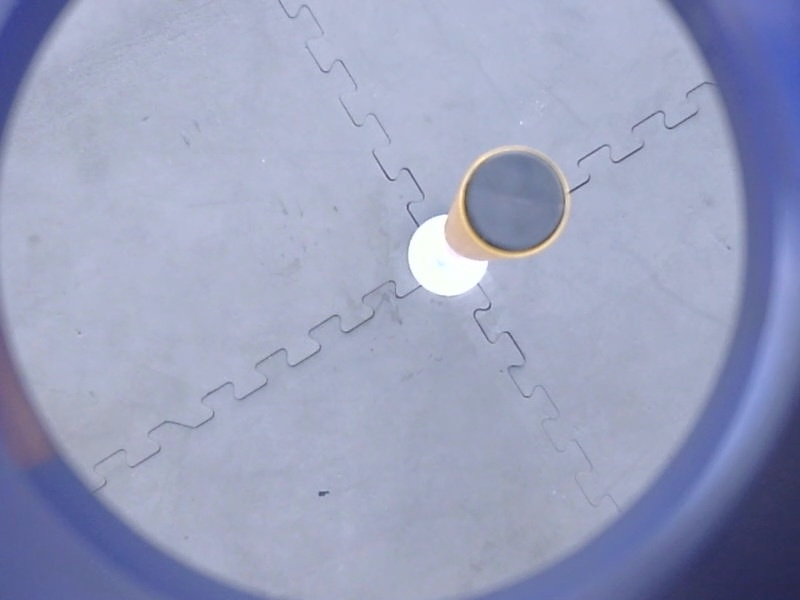tip: (453, 138, 577, 264)
